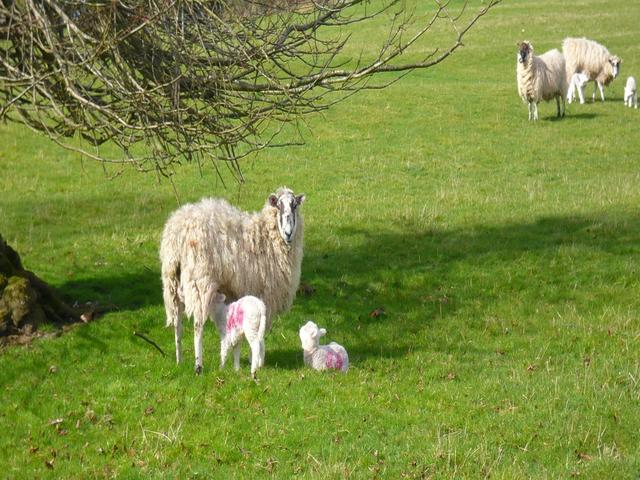sheep: (134, 176, 351, 321), (175, 259, 283, 413), (499, 32, 570, 102)
